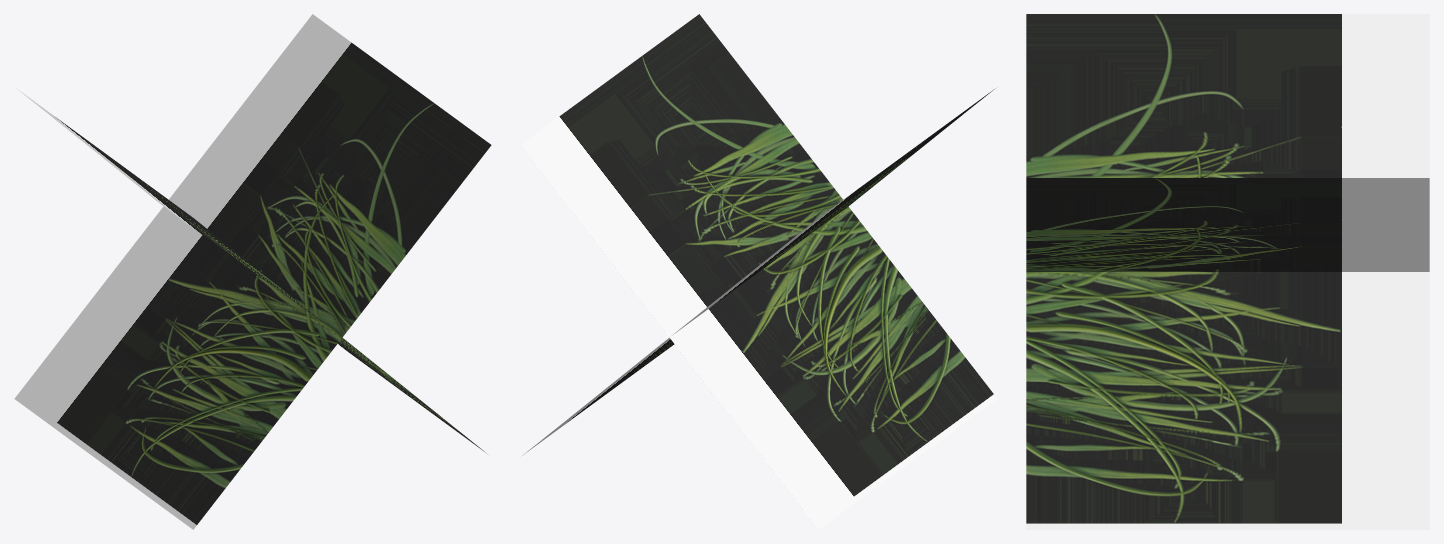
File: grass2.fbx
3 renders of one model, left to right at view 1: azimuth 30°, elevation 25°; view 2: azimuth 150°, elevation 25°; view 3: azimuth 270°, elevation 25°, orthographic. The views are drawn at different scales.
Parts seen in each view (by area): view 1: Grass2; view 2: Grass2; view 3: Grass2.
Boxes of the visible parts, box(x1,y1,x2,y2) form: Grass2: box(14, 14, 491, 529); Grass2: box(520, 14, 997, 529); Grass2: box(1026, 14, 1429, 529).
Size of the model in its own units: 35.36 by 35.36 by 36.75.
